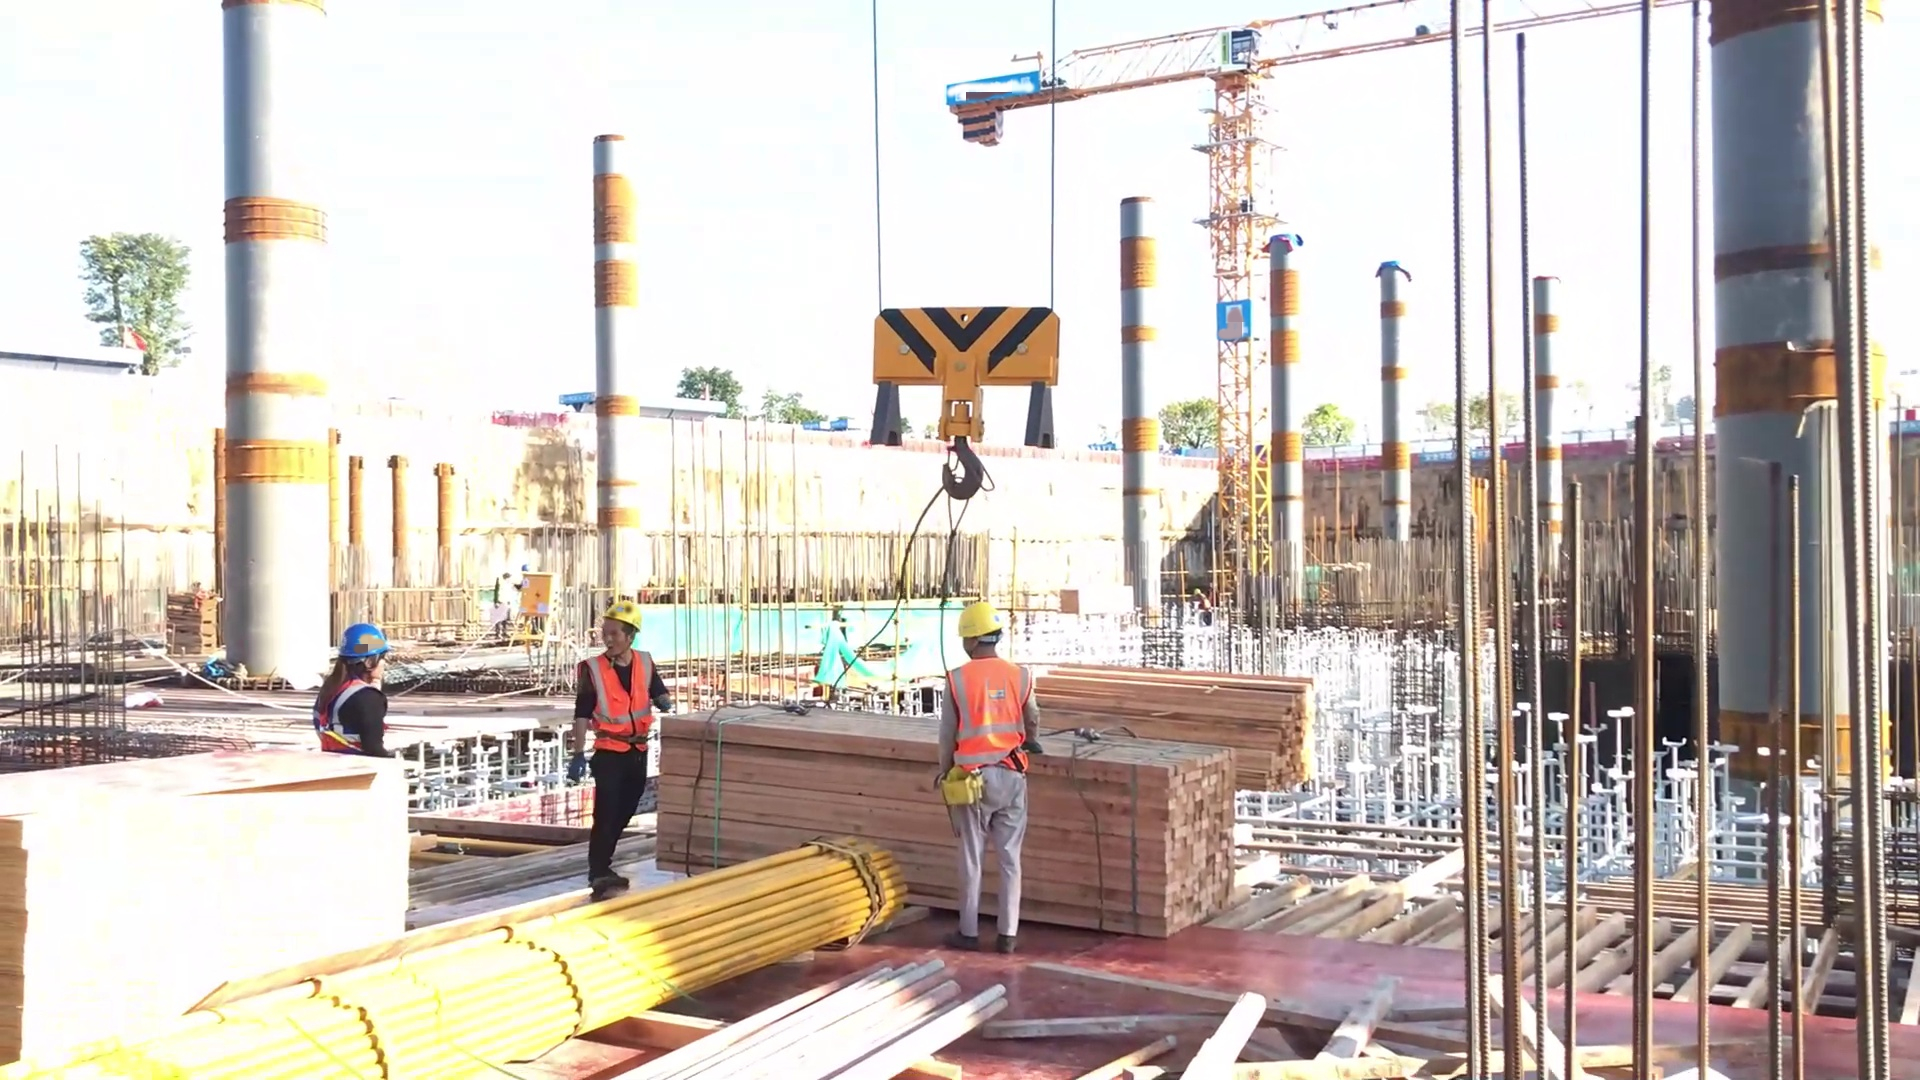helmet: (586, 588, 655, 630), (954, 595, 1016, 641), (329, 618, 392, 658)
person: (942, 603, 1038, 950), (582, 604, 662, 903), (315, 616, 415, 766)
vest: (947, 660, 1028, 768), (582, 649, 655, 751), (312, 669, 394, 751)
